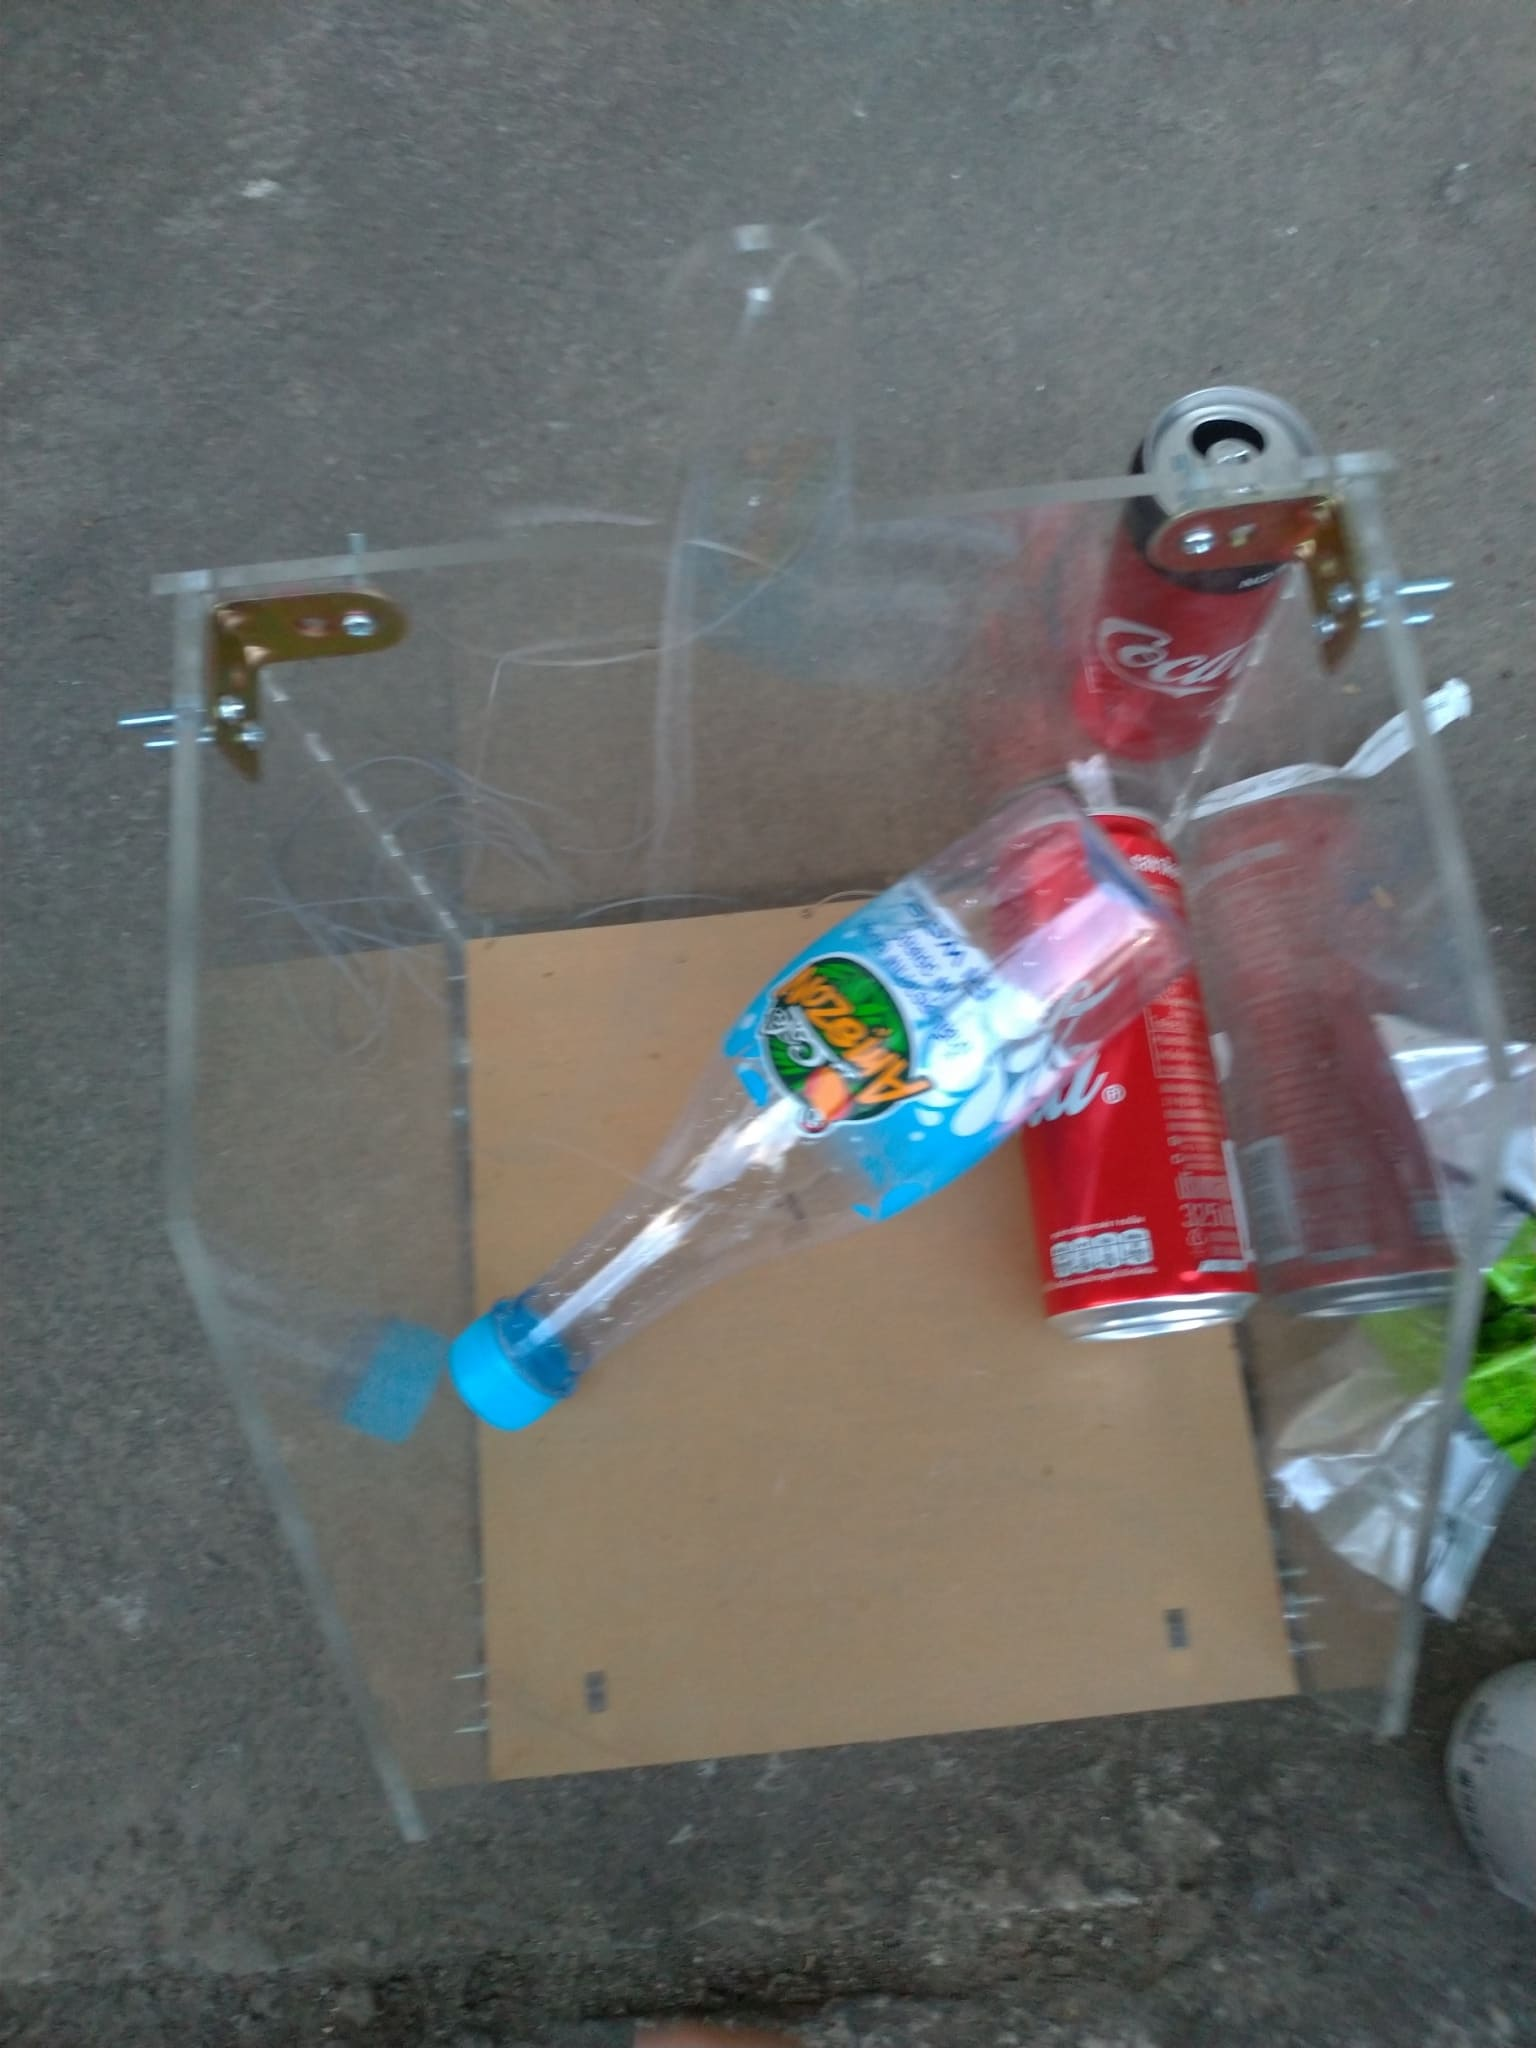AlCan: (987, 792, 1271, 1348), (1075, 385, 1317, 751), (1447, 1680, 1536, 1906)
Others: (1267, 995, 1536, 1609)
PlasticBottle: (444, 792, 1175, 1430)
